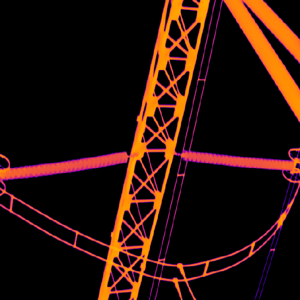insulator: (0, 149, 127, 181), (180, 146, 294, 172)
